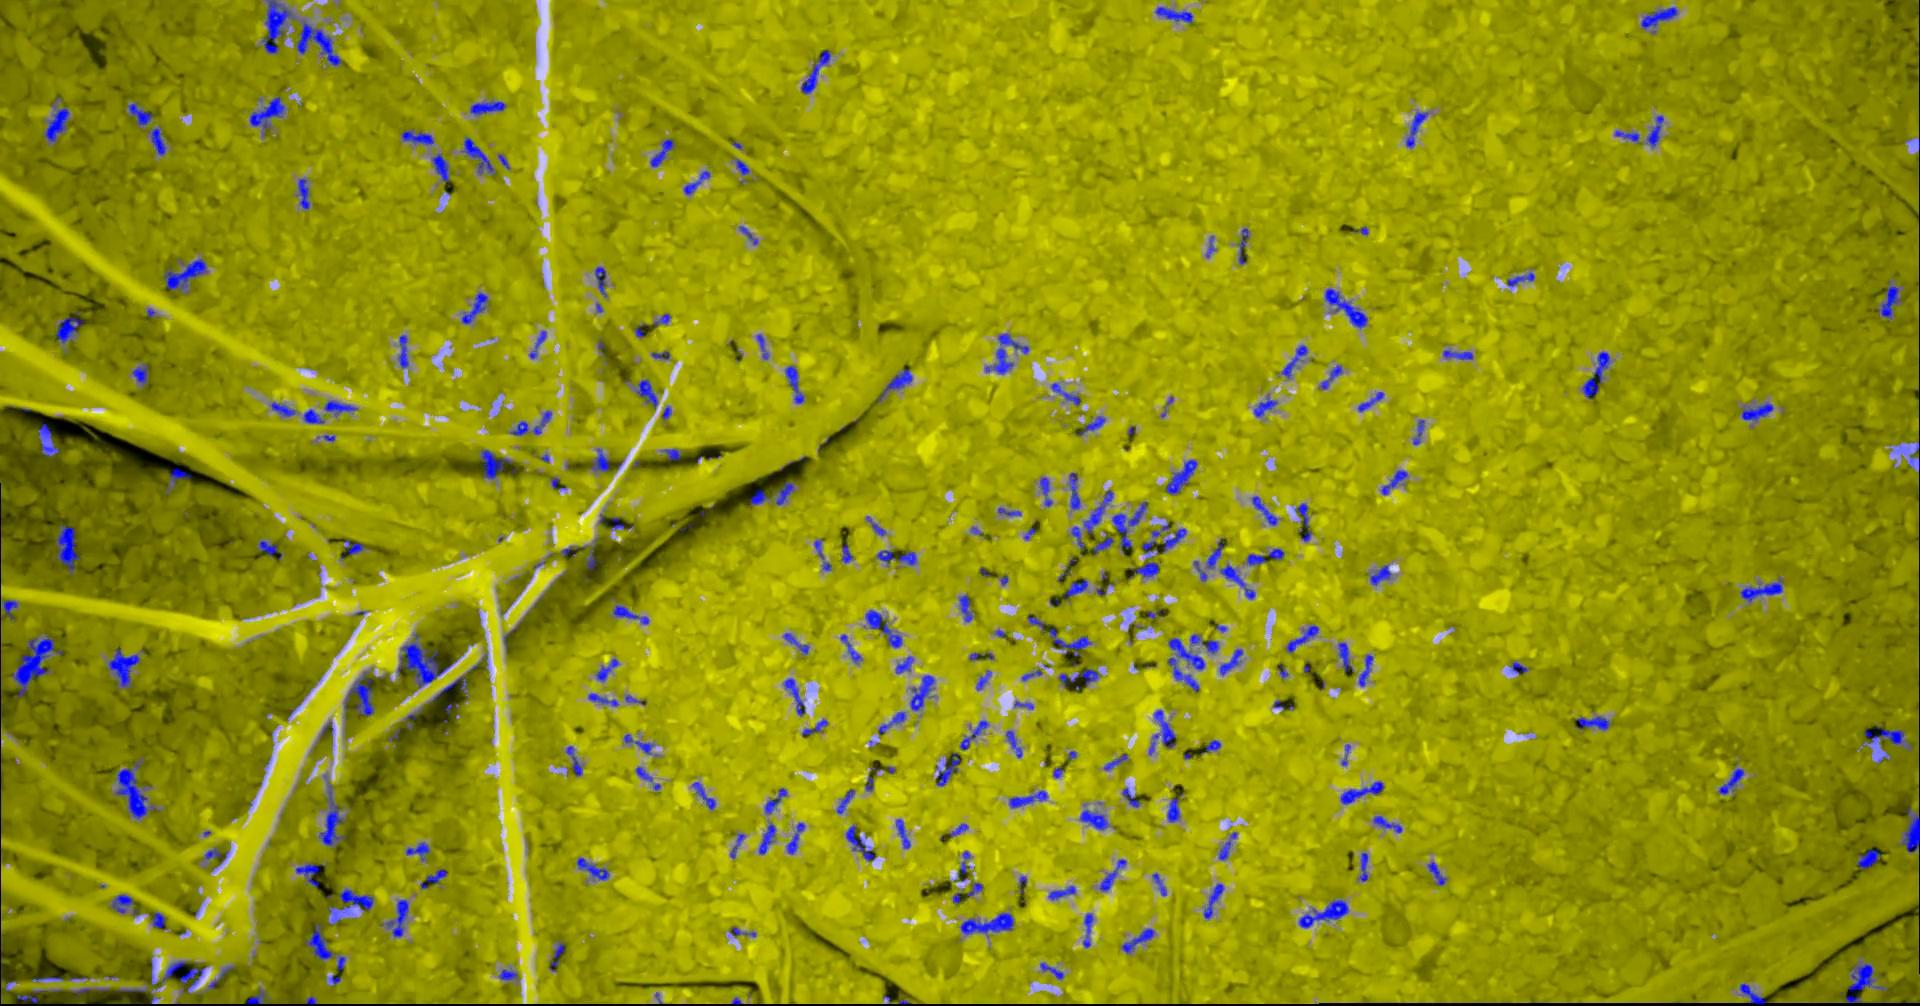ant: (117, 761, 157, 818), (298, 20, 343, 65), (1170, 638, 1206, 691), (1112, 500, 1149, 553), (1845, 963, 1890, 1005), (985, 333, 1030, 373), (1326, 288, 1369, 328), (320, 782, 347, 845), (264, 0, 295, 53), (1300, 899, 1350, 927), (165, 258, 208, 290), (867, 608, 903, 647), (57, 520, 81, 574), (1583, 351, 1611, 398), (345, 671, 375, 715), (1222, 564, 1257, 600), (803, 50, 832, 93), (1084, 490, 1114, 533), (109, 648, 141, 687), (251, 97, 286, 132), (1150, 709, 1177, 754), (877, 368, 914, 401), (463, 136, 495, 174), (1050, 627, 1093, 655), (963, 912, 1015, 934), (1167, 459, 1197, 494), (430, 674, 469, 702), (847, 826, 877, 860), (306, 923, 334, 959), (1741, 578, 1784, 601), (1342, 781, 1385, 804), (1642, 6, 1679, 33), (483, 448, 514, 479), (1879, 281, 1903, 320), (46, 105, 71, 142), (1288, 624, 1321, 652), (910, 674, 936, 710), (57, 311, 85, 343), (1101, 857, 1128, 890), (387, 899, 410, 937), (961, 720, 990, 749), (1283, 345, 1309, 377), (1902, 807, 1920, 852), (1123, 929, 1156, 953), (1407, 111, 1429, 147), (785, 678, 806, 715), (938, 752, 961, 786), (463, 292, 489, 323), (786, 365, 806, 403), (1864, 725, 1905, 744), (1060, 668, 1100, 687), (1253, 495, 1279, 525), (340, 888, 375, 909), (297, 862, 328, 887), (578, 857, 610, 880), (1205, 883, 1225, 918), (1741, 983, 1774, 1005), (1382, 469, 1410, 494), (39, 422, 60, 456), (615, 605, 650, 624), (651, 138, 676, 166), (684, 170, 712, 194), (877, 549, 918, 565), (1051, 382, 1081, 405), (841, 634, 863, 663), (625, 733, 655, 754), (1248, 547, 1285, 565), (1719, 768, 1745, 794), (693, 782, 717, 809), (637, 379, 659, 408), (1156, 6, 1194, 23), (1297, 503, 1313, 541), (1011, 790, 1049, 807), (182, 967, 207, 991), (1222, 648, 1244, 674), (210, 967, 236, 989), (879, 711, 907, 733), (1081, 809, 1110, 829), (1076, 415, 1106, 434), (766, 788, 789, 813), (163, 960, 188, 983), (422, 868, 450, 888), (325, 400, 359, 417), (1743, 403, 1775, 420), (789, 822, 806, 854), (1191, 634, 1220, 653), (130, 102, 154, 124), (1164, 528, 1189, 551), (785, 633, 810, 654), (471, 100, 507, 116), (433, 152, 451, 183), (1359, 391, 1385, 412), (759, 823, 777, 854), (955, 850, 971, 882), (1255, 394, 1277, 417), (597, 658, 620, 681), (1322, 365, 1343, 389), (258, 540, 283, 560), (1143, 530, 1162, 556), (1857, 848, 1883, 868), (1648, 116, 1665, 146), (531, 330, 549, 358), (1208, 540, 1225, 568), (1577, 715, 1611, 729), (897, 818, 912, 848), (551, 940, 566, 970), (403, 130, 436, 144), (1375, 815, 1403, 832), (342, 539, 366, 558), (1065, 578, 1090, 597), (1429, 861, 1448, 885), (1340, 641, 1355, 671), (568, 746, 583, 775), (1360, 654, 1374, 686), (1007, 730, 1023, 757), (1371, 565, 1393, 586), (592, 448, 611, 471), (408, 841, 430, 860), (535, 410, 552, 434), (838, 789, 856, 813), (1041, 962, 1065, 979), (152, 127, 168, 155), (804, 719, 829, 735), (1131, 561, 1161, 575), (777, 481, 795, 504), (585, 546, 603, 569), (1050, 885, 1077, 901), (112, 894, 135, 912), (18, 989, 44, 1005), (298, 178, 311, 210), (1105, 753, 1129, 770), (1509, 272, 1537, 286), (960, 594, 974, 622), (596, 265, 608, 296), (272, 401, 297, 417), (1239, 227, 1250, 264), (1070, 473, 1081, 509), (590, 692, 620, 705), (740, 225, 759, 244), (869, 516, 888, 535), (1123, 788, 1142, 807), (1095, 536, 1115, 554), (171, 467, 193, 484), (206, 847, 229, 862), (1153, 873, 1168, 895), (1084, 913, 1095, 948), (1, 600, 19, 619), (897, 655, 916, 673), (731, 833, 745, 857), (400, 334, 410, 367), (133, 363, 150, 384), (750, 489, 771, 506), (305, 408, 326, 423), (1041, 478, 1053, 506), (977, 669, 993, 688), (1444, 349, 1474, 359), (758, 334, 770, 359), (1415, 419, 1426, 445), (1073, 526, 1086, 549), (1170, 796, 1181, 822), (248, 989, 267, 1005), (1195, 560, 1209, 580), (1029, 616, 1049, 630), (1617, 130, 1641, 141), (1203, 739, 1222, 753), (731, 926, 757, 936), (637, 766, 654, 781), (152, 912, 168, 929), (512, 420, 530, 434), (612, 517, 632, 528), (737, 158, 750, 174), (968, 882, 984, 895), (1512, 661, 1530, 673), (951, 823, 969, 836), (1361, 852, 1369, 882), (664, 448, 683, 460), (843, 542, 855, 561), (1220, 840, 1232, 859), (500, 969, 519, 981), (971, 652, 996, 661), (655, 312, 672, 325), (999, 507, 1022, 514), (653, 351, 670, 359)
